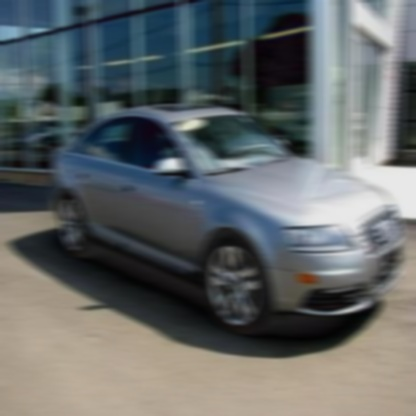Vehicle: (52, 105, 401, 337)
